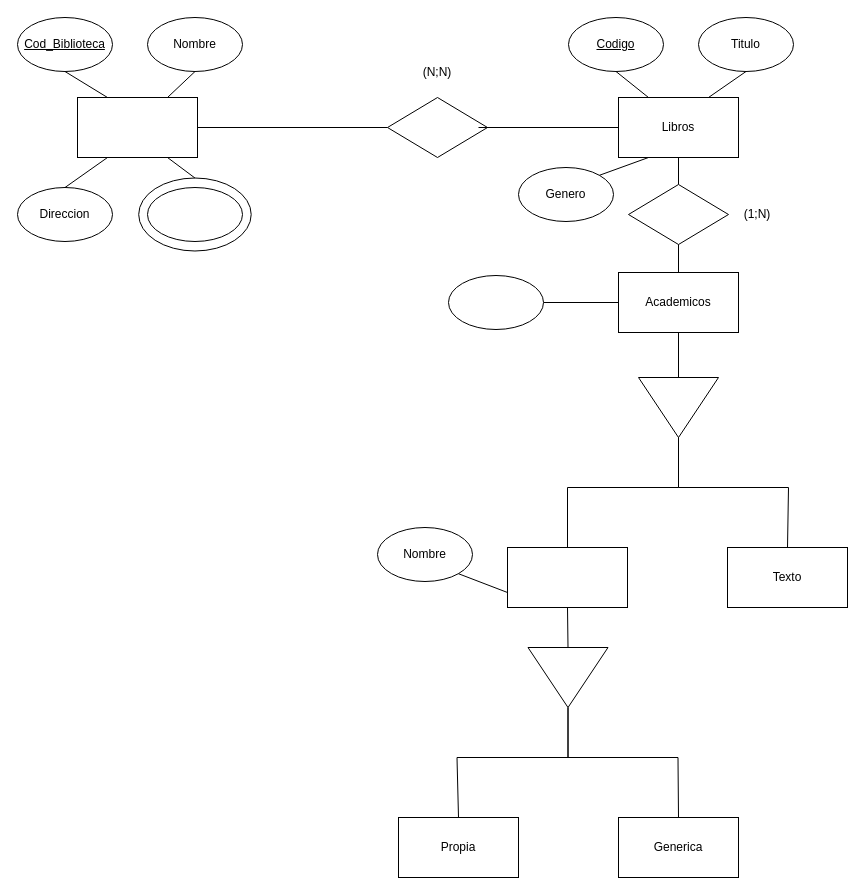
Image size: 865x895. Some labels were removed from this diagram. The shapes that lost their labels are listed below. From the top down, each one's centre as x and y in pixels, then its label:
At pixel 137 127: "Biblioteca".
At pixel 437 127: "Libros X Biblioteca".
At pixel 194 214: "Telefono".
At pixel 678 214: "Academicos X Libros".
At pixel 496 302: "Materia".
At pixel 567 577: "Editorial".
